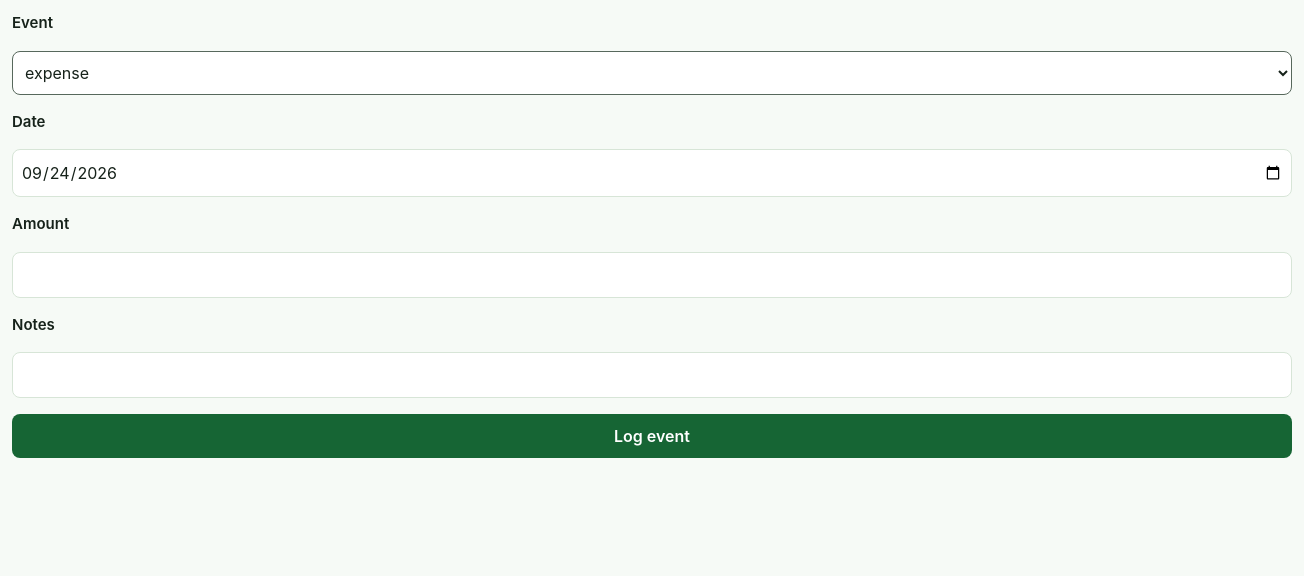
EventForm › resets the headcount field back to 1 after a successful batch sale submit
The width and height of the screenshot is (1304, 576).
Select "sale" in the dropdown labelled "Event" at (652, 72), box [12,50,1292,94]
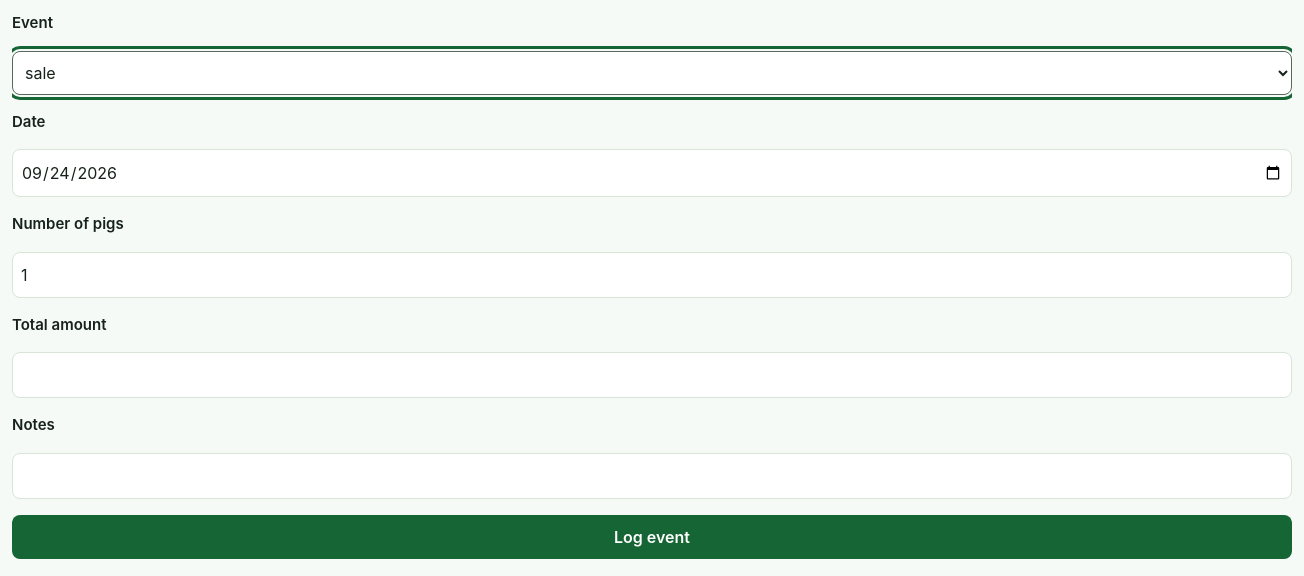
Replace the text in the number field labelled "Number of pigs" with "4" at (652, 274), box [12,252,1292,298]
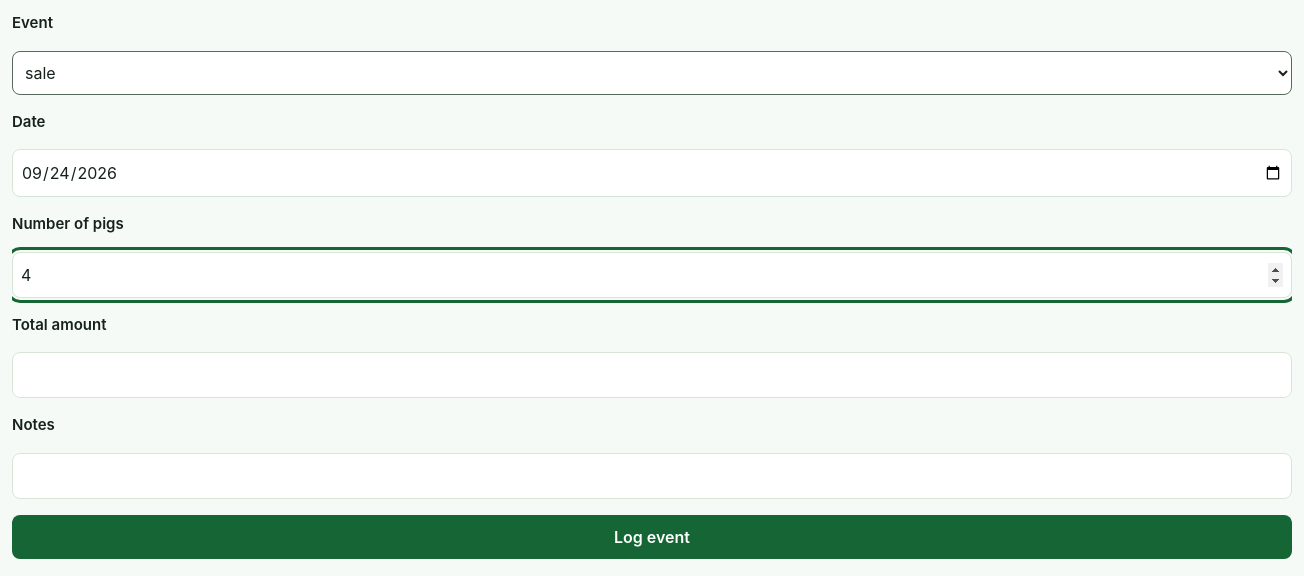
Type "800" into the number field labelled "Total amount" at (652, 375), box [12,352,1292,398]
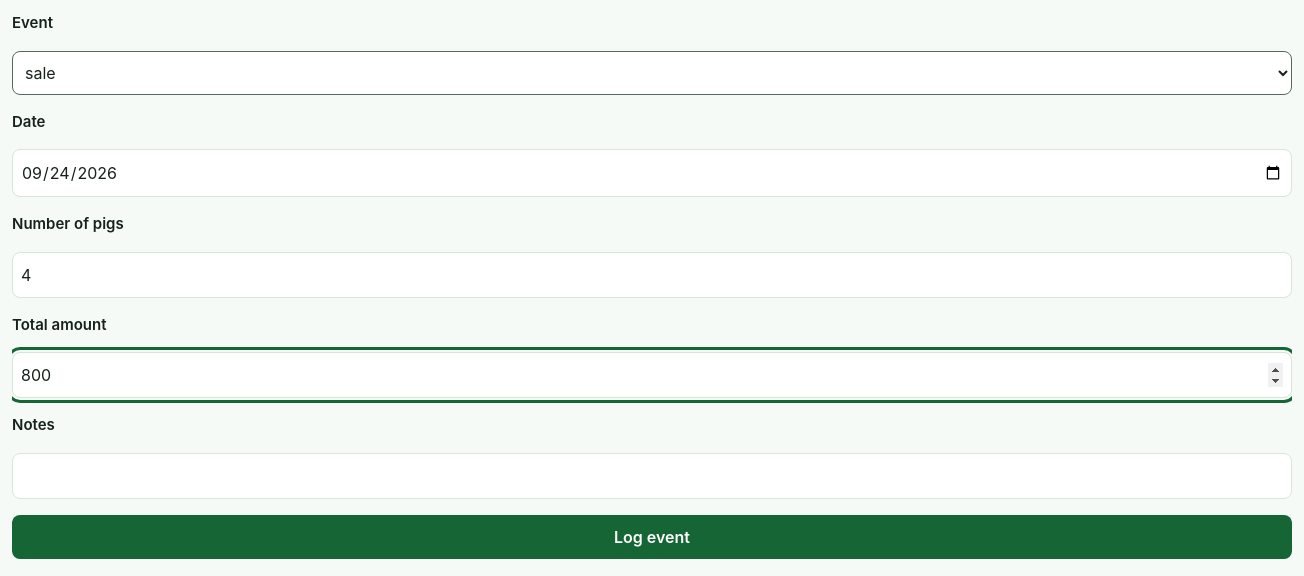
Click the button "Log event" at (652, 536), box [12,514,1292,558]
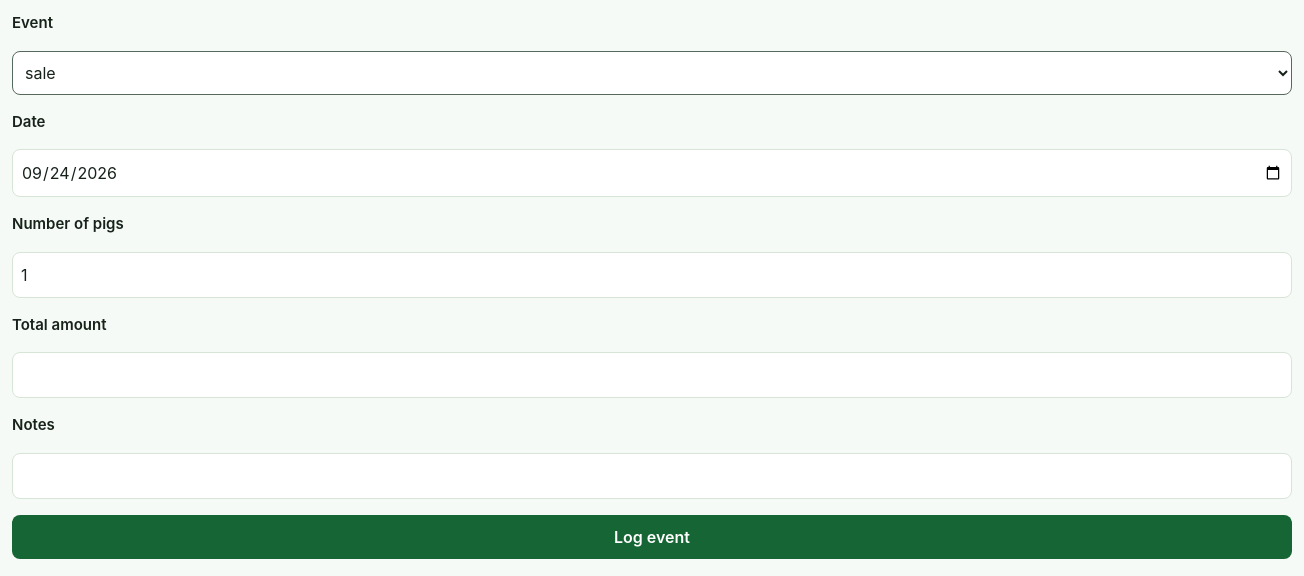
Result: the number field labelled "Number of pigs" holds "1" at [12,252,1292,298]
